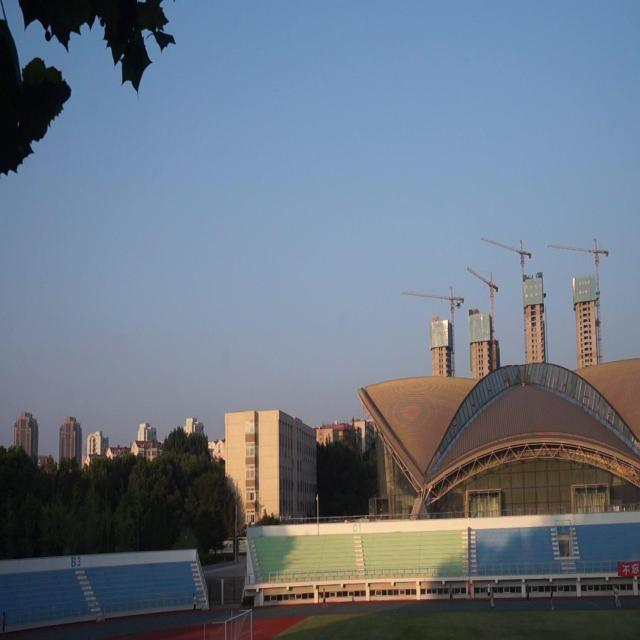drone: (456, 298, 462, 311)
